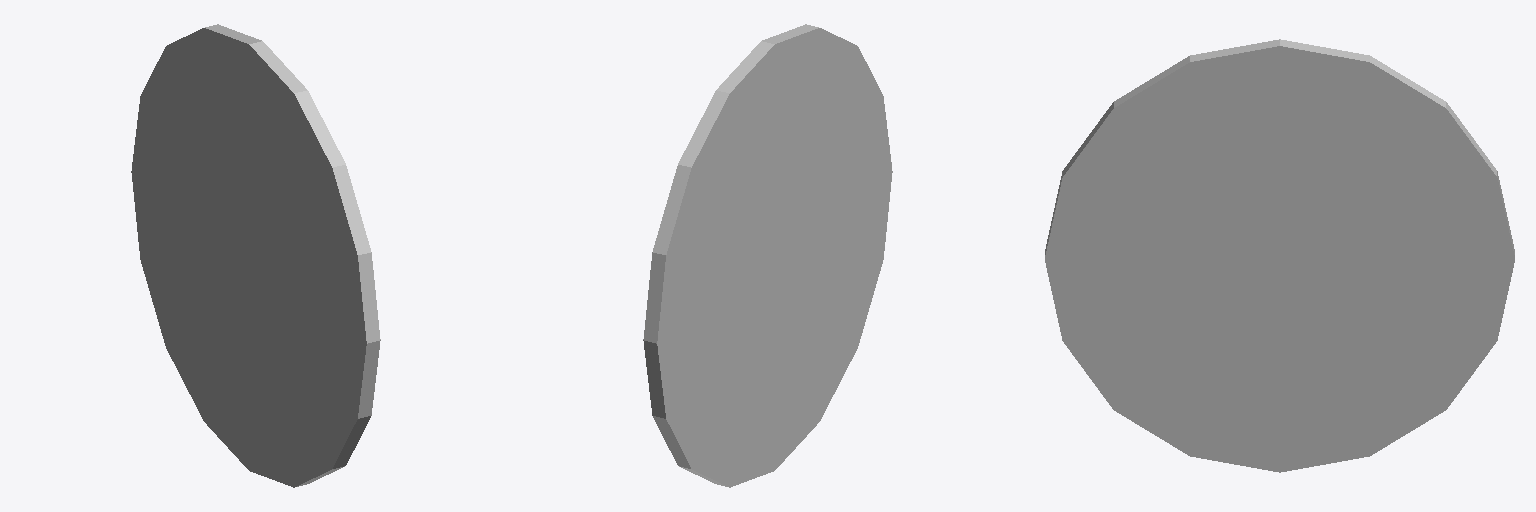
The model's file is PortalManoFondo.obj.
The picture shows the model from 3 angles: view 1: azimuth 30°, elevation 25°; view 2: azimuth 150°, elevation 25°; view 3: azimuth 270°, elevation 25°; orthographic projection.
Visible parts, largest first — view 1: Cylinder; view 2: Cylinder; view 3: Cylinder.
Boxes of the visible parts, x1=… form: Cylinder: x1=131, y1=24, x2=380, y2=487; Cylinder: x1=643, y1=24, x2=892, y2=487; Cylinder: x1=1045, y1=39, x2=1514, y2=472.
Bounding box in the file's own units: 0.1357 × 4 × 4.